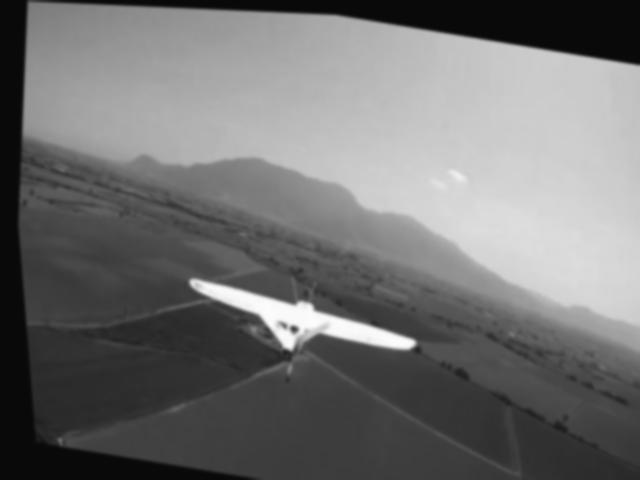hedef: (173, 256, 424, 403)
